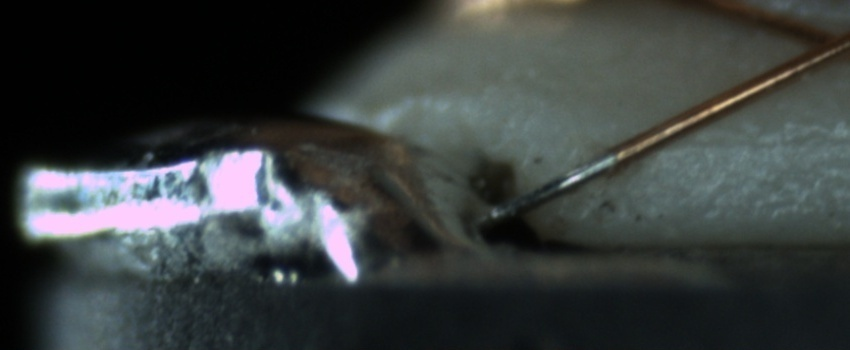CL: (778, 11, 849, 75)
DL: (675, 111, 850, 173)
TS: (486, 150, 620, 223)
